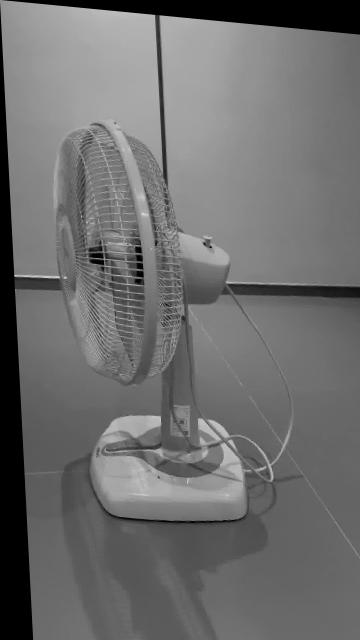Fan: (51, 119, 244, 522)
